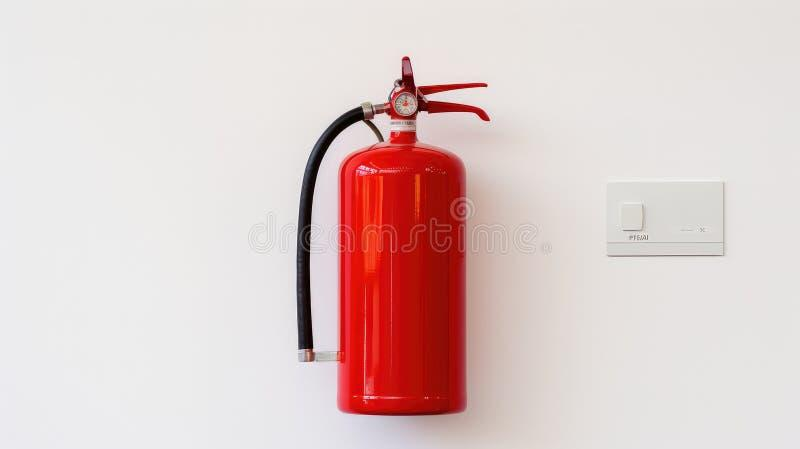wall-mounted: (225, 48, 559, 429)
